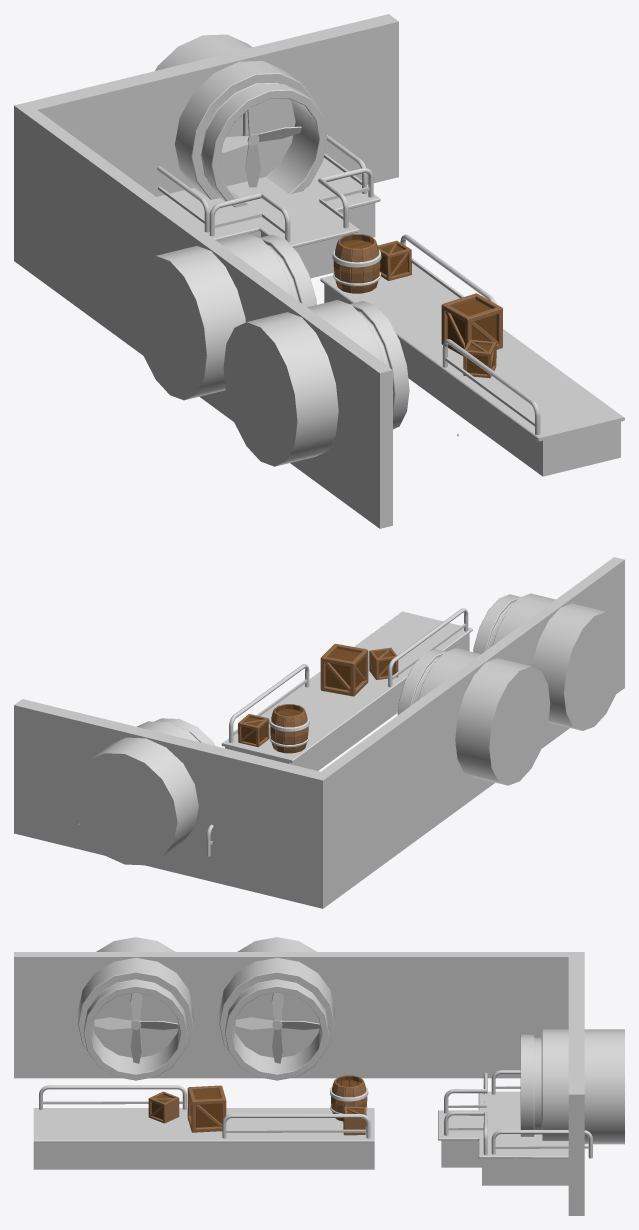
File: Room4NonTextured.fbx
The picture shows the model from 3 angles, top to bottom: view 1: azimuth 30°, elevation 25°; view 2: azimuth 150°, elevation 25°; view 3: azimuth 270°, elevation 25°; orthographic projection. The views are drawn at different scales.
Parts seen in each view (by area): view 1: Cube.031, Cube.064, Cylinder.082, Cylinder.081, Cylinder.083, Cube.063, crate.007, barrel.006, Area2_fan2.005, Rail 2.004, Rail 3.004, crate.009 (+4 smaller); view 2: Cube.031, Cylinder.083, Cylinder.081, Cylinder.082, Cube.064, crate.007, barrel.006, Rail 2.004, Rail 2.005, crate.009, crate.008; view 3: Cube.031, Cube.064, Cylinder.082, Cylinder.081, Cylinder.083, Cube.063, crate.007, Area2_fan2.003, Area2_fan2.001, Rail 2.004, Rail 2.005, barrel.006 (+5 smaller).
Part boxes in pixels (x1,y1,x2,y2): Cube.031: (14, 14, 398, 528); Cube.064: (320, 263, 624, 476); Cylinder.082: (223, 300, 409, 466); Cylinder.081: (133, 233, 316, 400); Cylinder.083: (155, 34, 327, 207); Cube.063: (157, 157, 380, 278); crate.007: (441, 293, 502, 355); barrel.006: (332, 234, 381, 293); Area2_fan2.005: (221, 104, 301, 187); Rail 2.004: (442, 339, 540, 440); Rail 3.004: (209, 192, 290, 242); crate.009: (378, 240, 411, 280); Cube.031: (14, 557, 624, 908); Cylinder.083: (72, 718, 215, 865); Cylinder.081: (397, 648, 550, 785); Cylinder.082: (473, 593, 624, 730); Cube.064: (221, 611, 472, 770); crate.007: (320, 643, 368, 696); barrel.006: (269, 704, 309, 753); Rail 2.004: (388, 608, 468, 691); Rail 2.005: (229, 664, 309, 742); crate.009: (238, 714, 269, 747); crate.008: (369, 647, 398, 679); Cube.031: (14, 952, 584, 1215); Cube.064: (33, 1108, 374, 1169); Cylinder.082: (78, 937, 193, 1080); Cylinder.081: (219, 937, 334, 1080); Cylinder.083: (520, 1029, 624, 1144); Cube.063: (438, 1091, 568, 1185); crate.007: (187, 1085, 226, 1132); Area2_fan2.003: (94, 992, 178, 1063); Area2_fan2.001: (235, 992, 319, 1063); Rail 2.004: (39, 1085, 186, 1109); Rail 2.005: (222, 1114, 370, 1138); barrel.006: (330, 1075, 368, 1121).
Size of the model in its own units: 4668 by 1668 by 7613.
